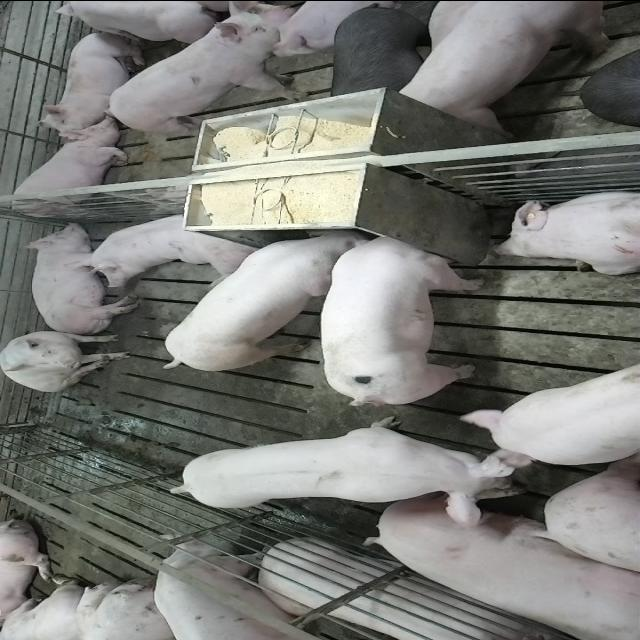Feeding: (160, 228, 368, 376), (318, 232, 484, 409)
Lateral_lying: (367, 483, 640, 637), (22, 222, 140, 334)
Sitting: (4, 124, 136, 216), (2, 328, 134, 391)
Standing: (170, 420, 542, 519), (394, 2, 616, 132), (110, 5, 320, 136), (458, 360, 640, 474), (156, 541, 344, 640), (327, 2, 439, 98)
Sternal_lying: (68, 208, 258, 284), (490, 187, 640, 275), (38, 30, 150, 134)
